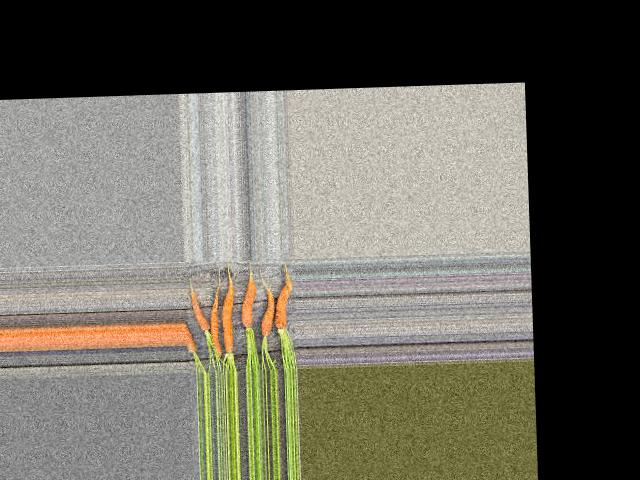carrot: (185, 331, 202, 364)
